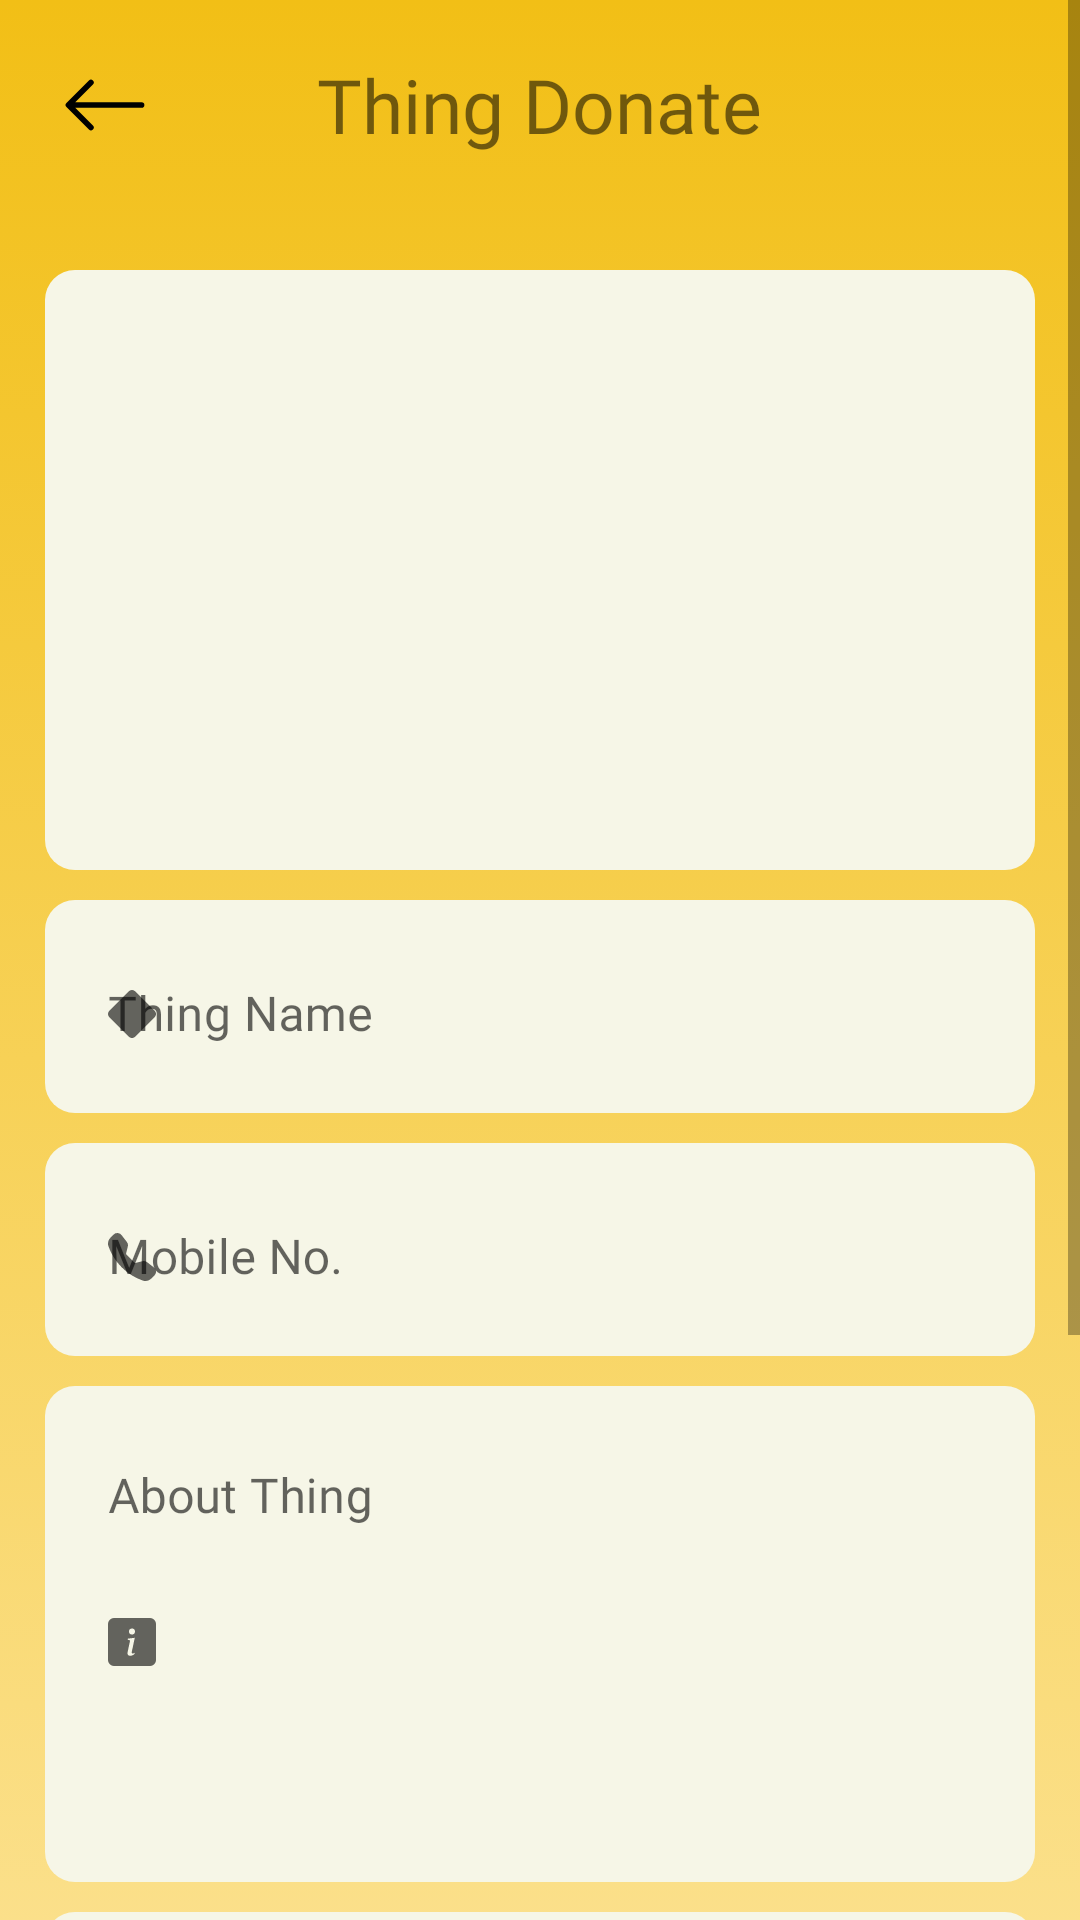

Icon click points for this 1080x1920 phone screenshot, format (x=x, y=y):
arrow left: (x=105, y=105)
